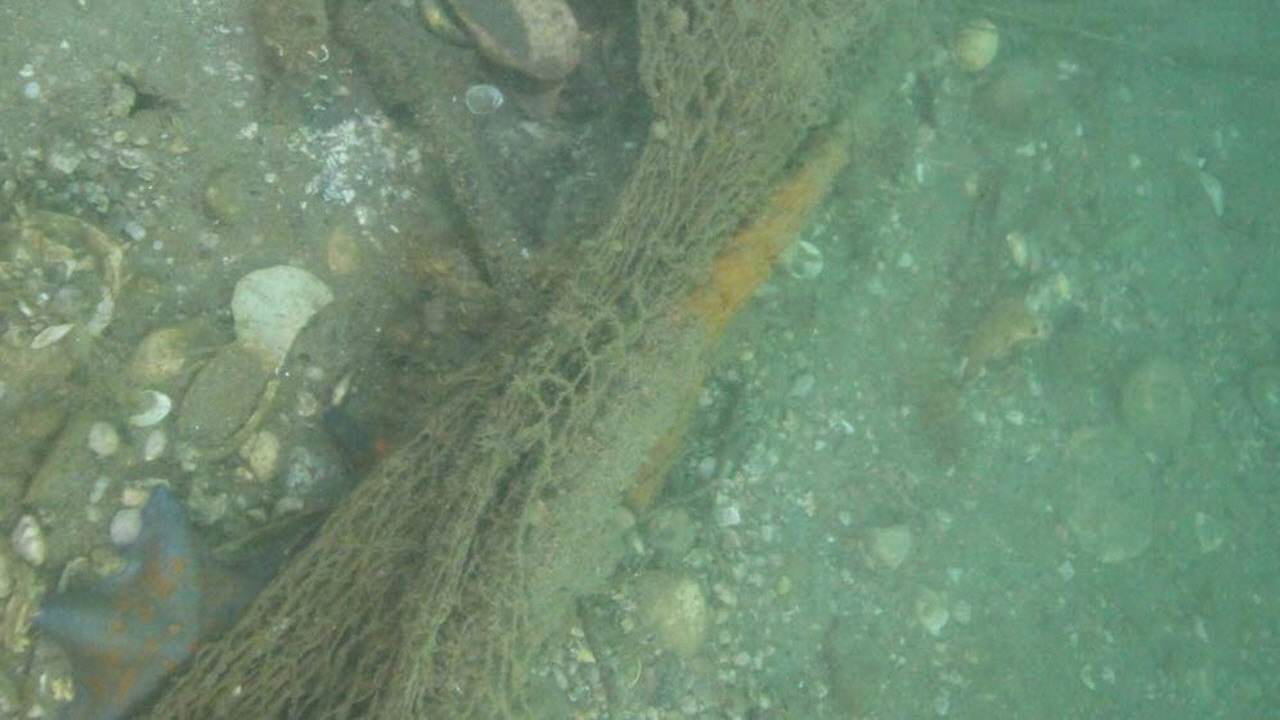fish net: (137, 0, 872, 720)
